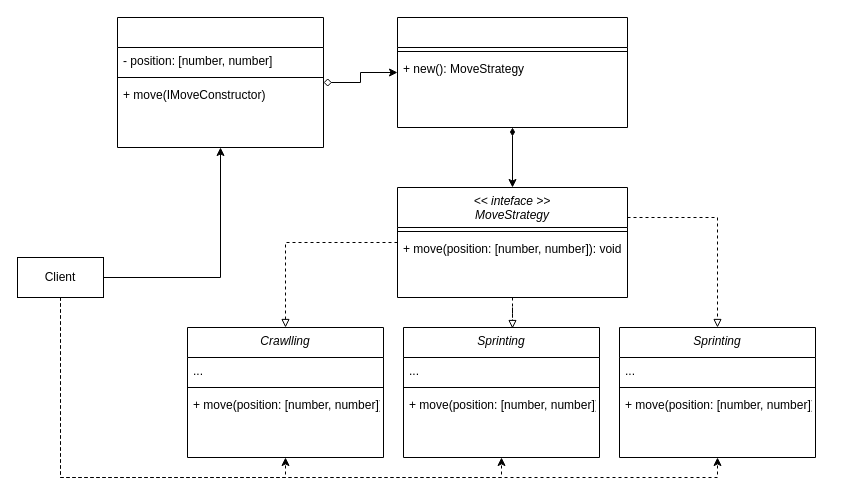
Image size: 860x503. Some labels were removed from this diagram. The box of each missing label's shape, as (x1, y1, x2, y2) in pixels:
GameCharacter: (116, 16, 324, 148)
IMoveConstructor: (396, 16, 628, 128)
